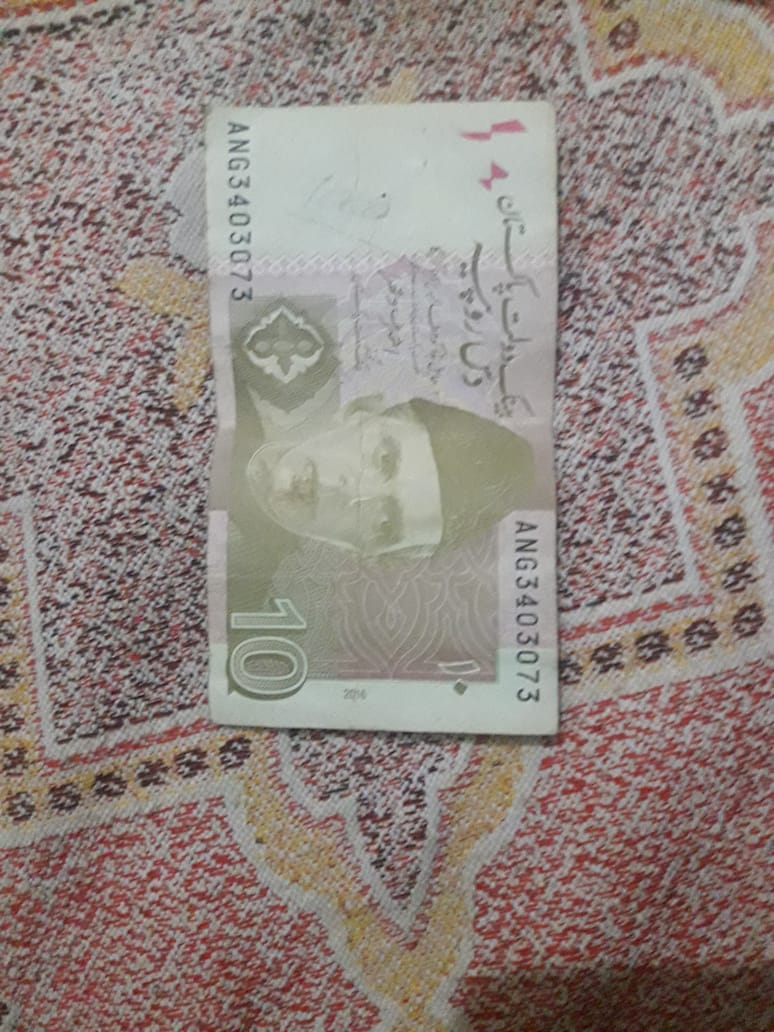10 rupee: (183, 83, 589, 760)
